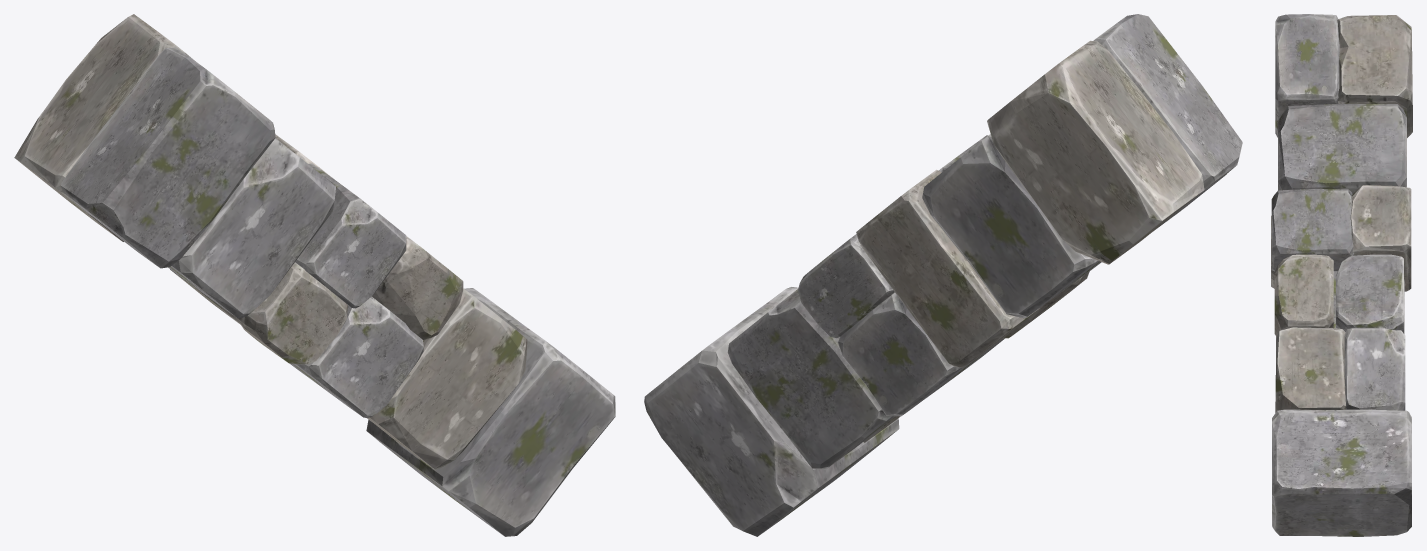
3 views of the same model, side by side, from view 1: azimuth 30°, elevation 25°; view 2: azimuth 150°, elevation 25°; view 3: azimuth 270°, elevation 25° (orthographic). The views are drawn at different scales.
Parts seen in each view (by area): view 1: SM_BB_T3_Beam_Thick_Med_Diagonal_LOD0; view 2: SM_BB_T3_Beam_Thick_Med_Diagonal_LOD0; view 3: SM_BB_T3_Beam_Thick_Med_Diagonal_LOD0.
Boxes of the visible parts, box(x1,y1,x2,y2) form: SM_BB_T3_Beam_Thick_Med_Diagonal_LOD0: box(14, 14, 615, 536); SM_BB_T3_Beam_Thick_Med_Diagonal_LOD0: box(644, 14, 1242, 536); SM_BB_T3_Beam_Thick_Med_Diagonal_LOD0: box(1271, 14, 1412, 536).
Bounding box in the file's own units: 1.92 × 1.91 × 0.5983.
Materials: 1 (1 with a texture image).
